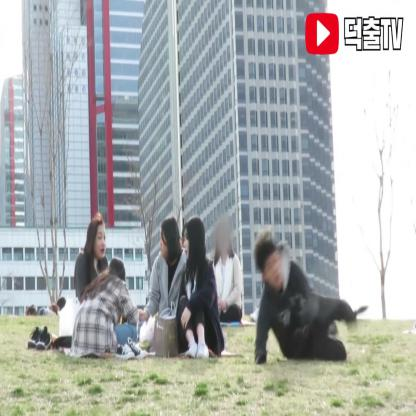Fall_Down: (252, 232, 361, 369)
